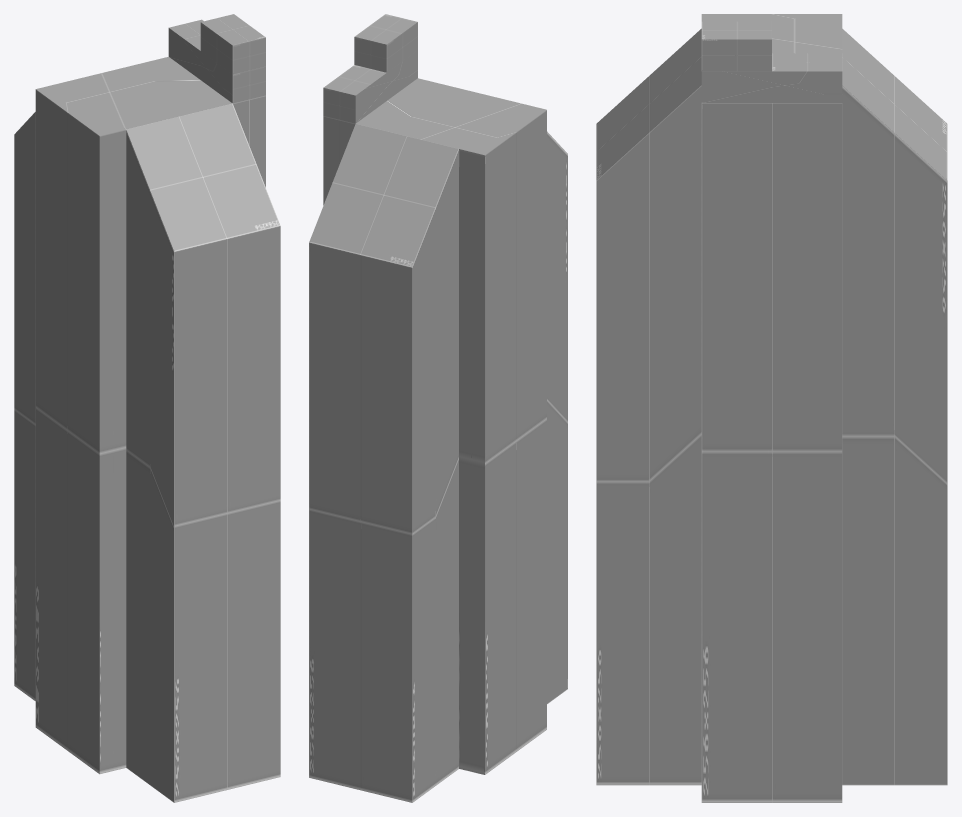
File: segment_both.glb
3 renders of one model, left to right at view 1: azimuth 30°, elevation 25°; view 2: azimuth 150°, elevation 25°; view 3: azimuth 270°, elevation 25°, orthographic. The views are drawn at different scales.
Parts seen in each view (by area): view 1: Cube; view 2: Cube; view 3: Cube.
Boxes of the visible parts, x1,y1,x2,y2 form: Cube: (14, 14, 280, 802); Cube: (309, 14, 567, 802); Cube: (596, 14, 947, 802).
Size of what is drawn, in the model's own units: 6 by 24 by 10.
Materials: 1 (1 with a texture image).
